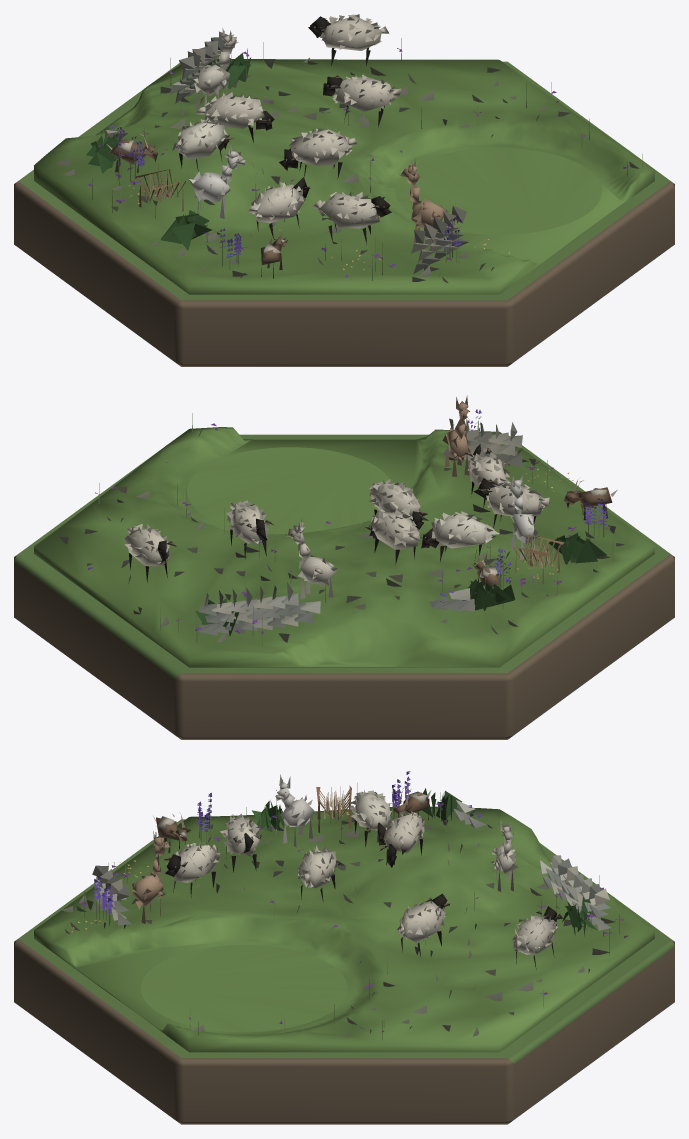
Rendered from tile_fleece_lod0.glb.
3 renders of one model, top to bottom at view 1: azimuth 30°, elevation 25°; view 2: azimuth 150°, elevation 25°; view 3: azimuth 270°, elevation 25°, orthographic.
Parts seen in each view (by area): view 1: tile_fleece_LOD0; view 2: tile_fleece_LOD0; view 3: tile_fleece_LOD0.
Boxes of the visible parts, x1,y1,x2,y2 form: tile_fleece_LOD0: [14, 14, 674, 366]; tile_fleece_LOD0: [14, 395, 674, 739]; tile_fleece_LOD0: [14, 771, 674, 1124].
Bounding box in the file's own units: 1.73 × 0.5586 × 1.98.
